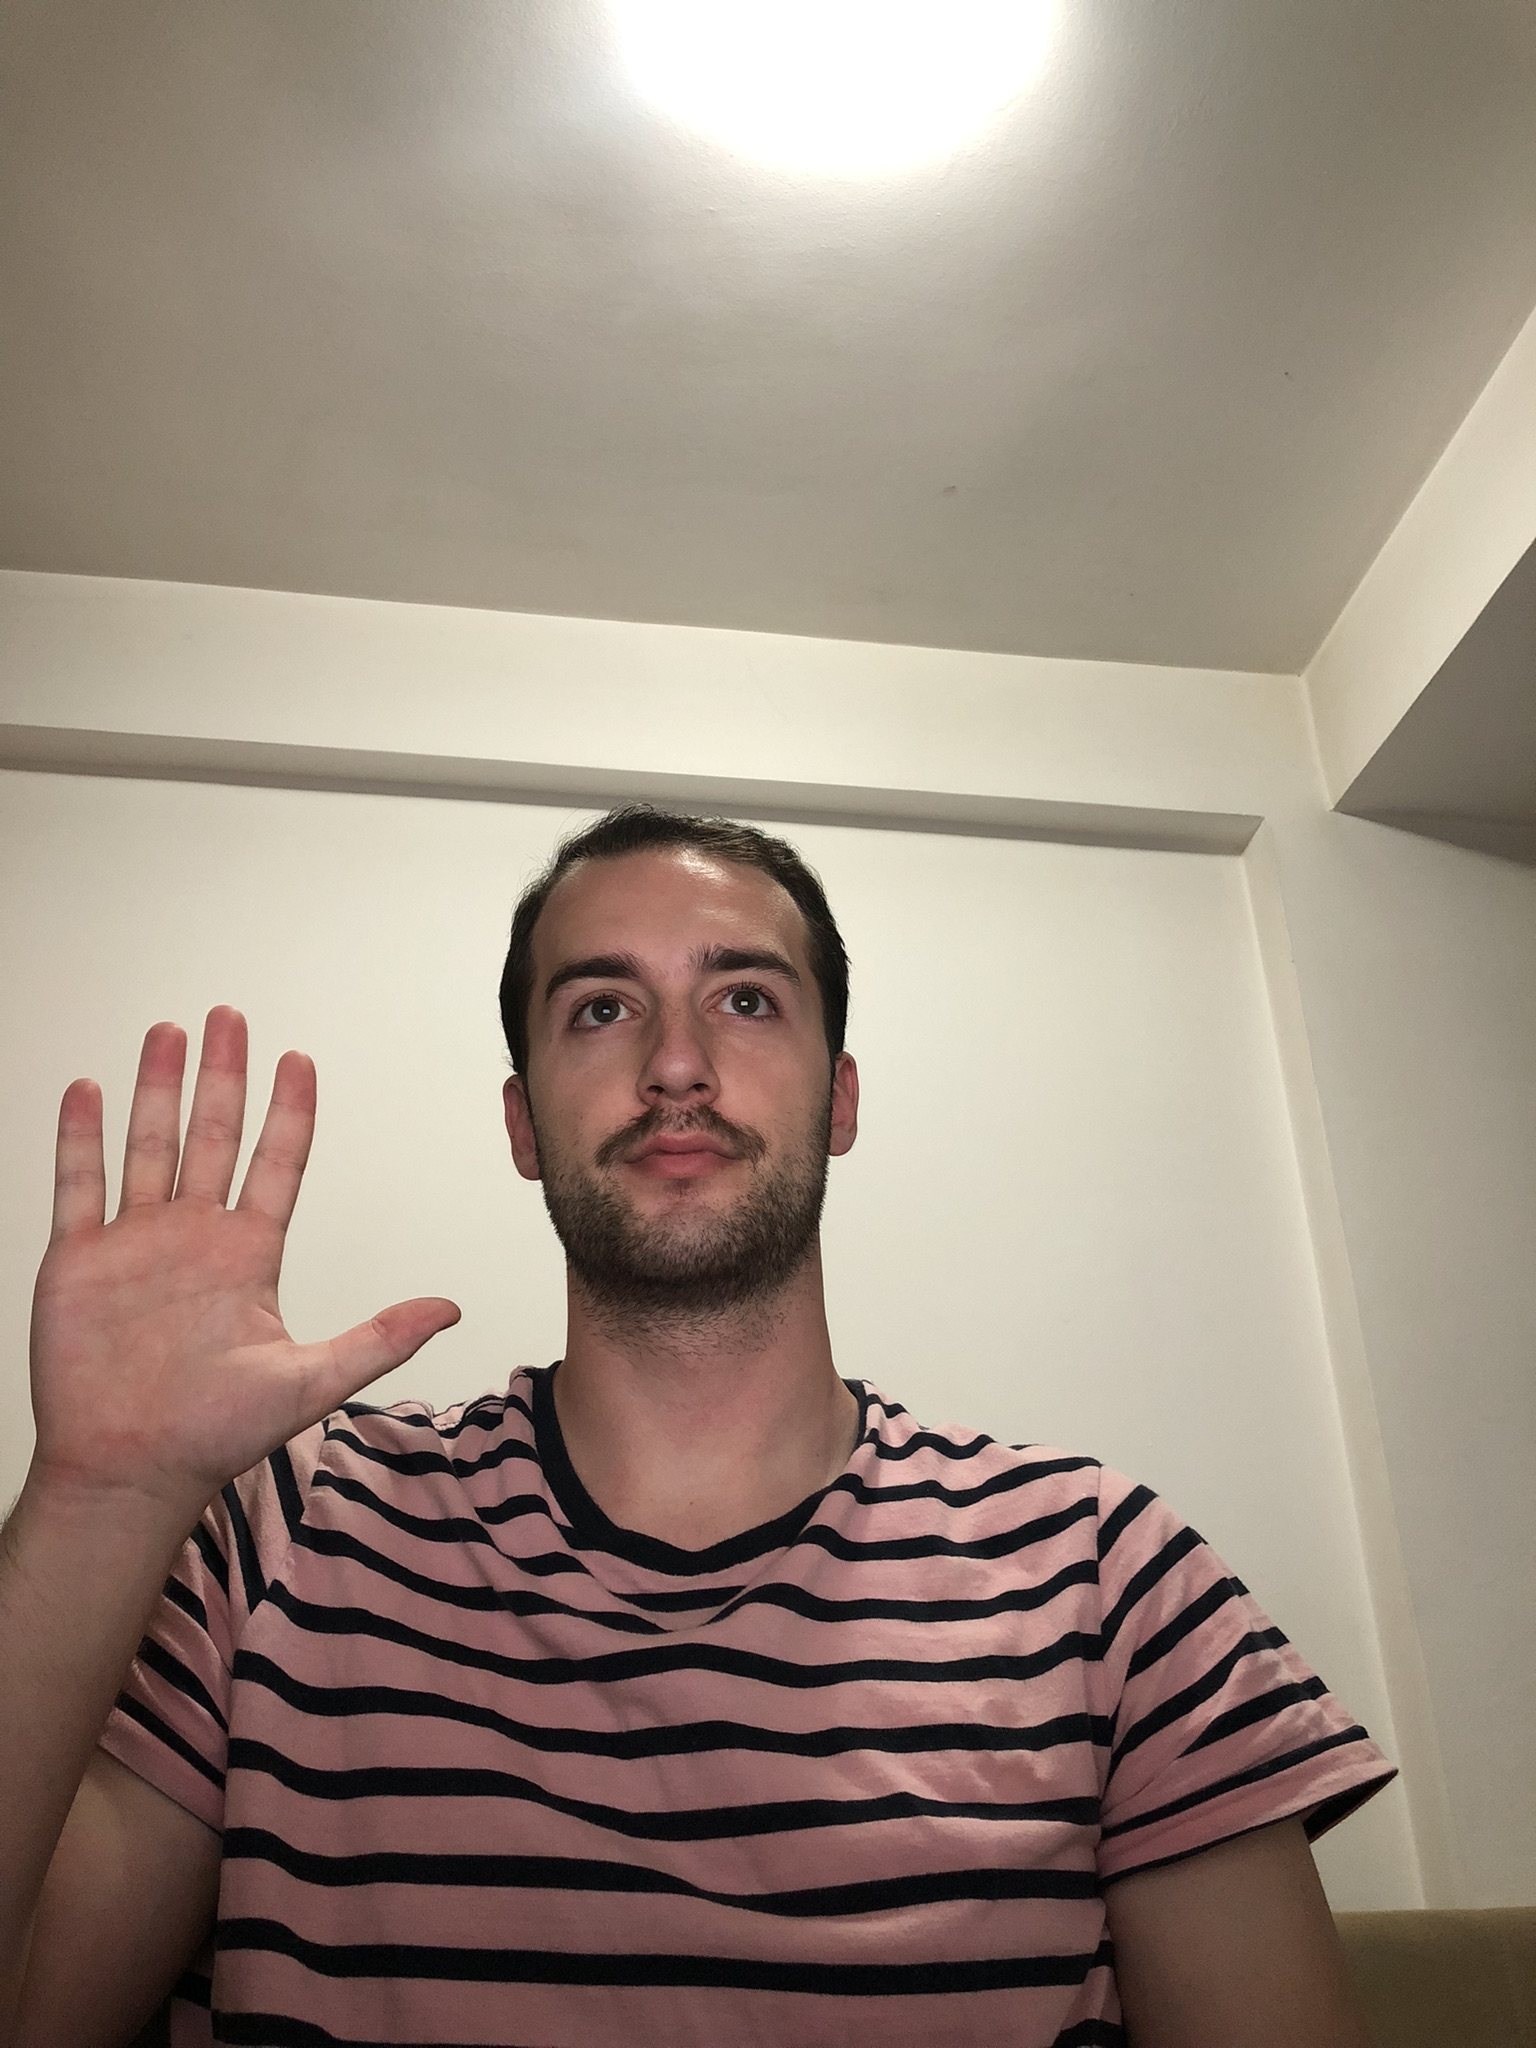Hello: (18, 993, 466, 1534)
